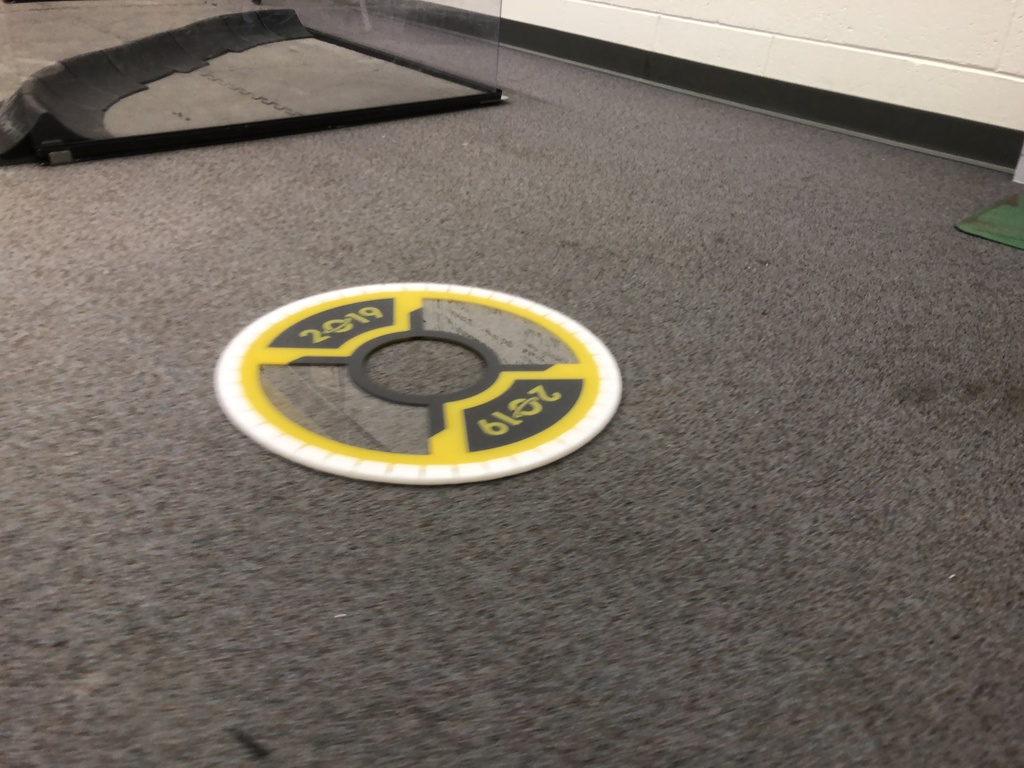hatch_panel: (203, 268, 638, 487)
